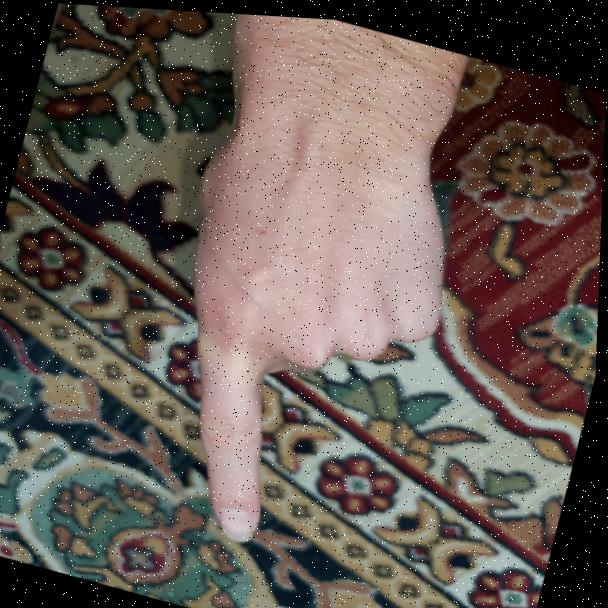one: (120, 66, 475, 580)
